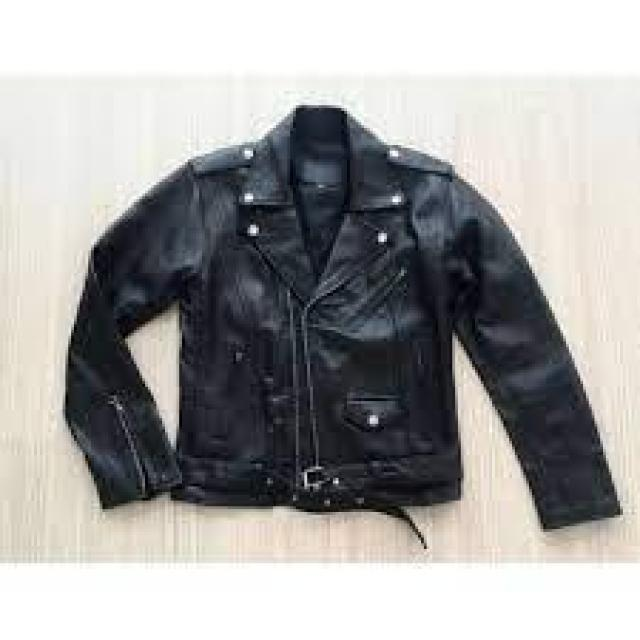jacket: (65, 108, 623, 532)
